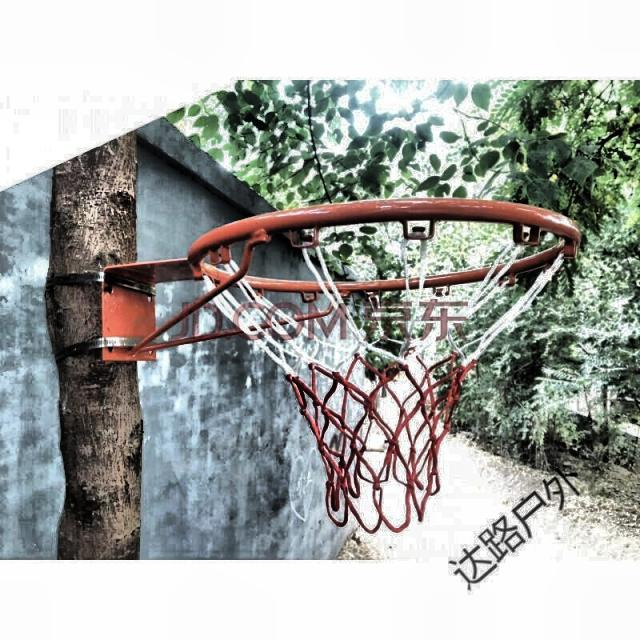rim: (192, 196, 586, 532)
